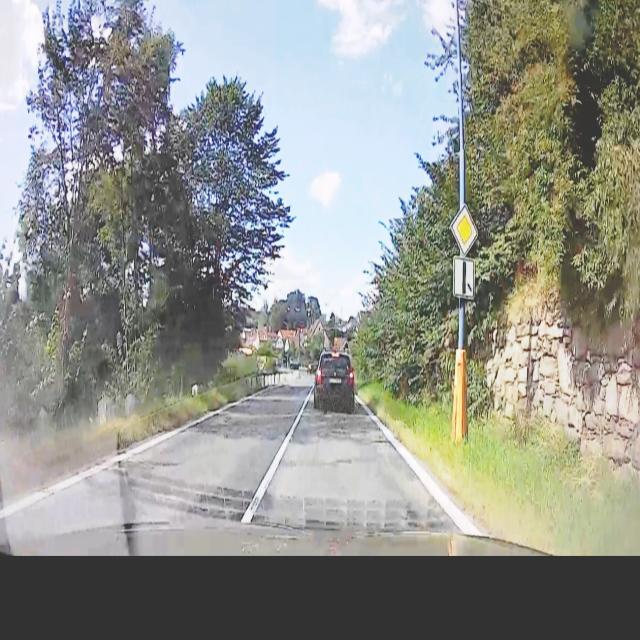Priority road: (448, 199, 478, 255)
